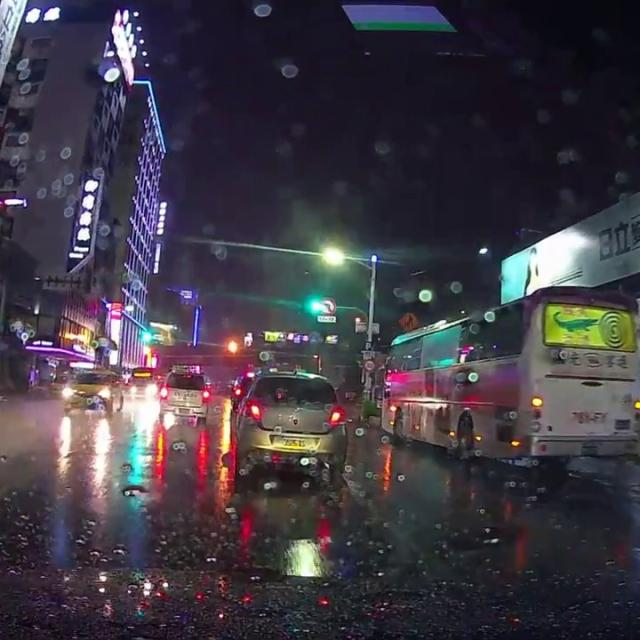Car: (227, 368, 344, 483), (56, 365, 124, 415), (157, 369, 210, 422), (229, 374, 254, 408)
